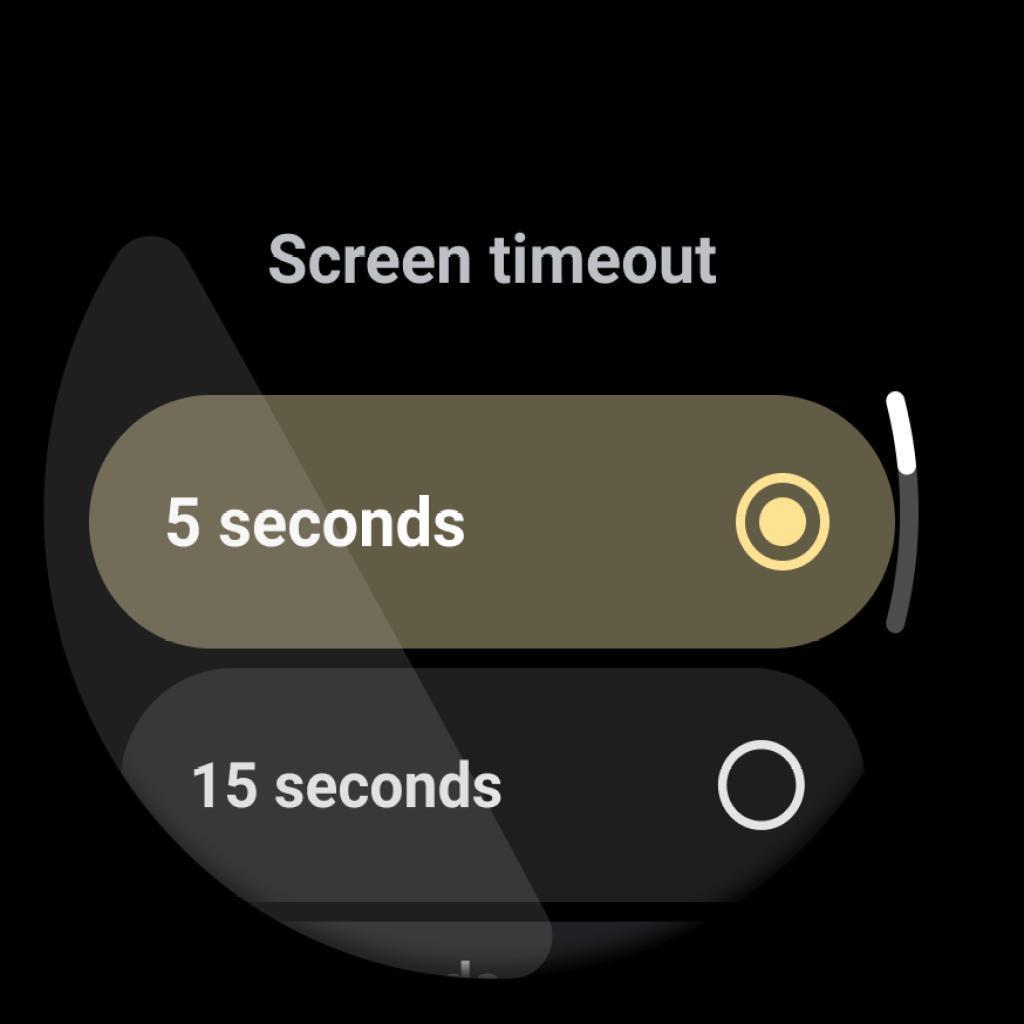label: (165, 484, 471, 566), (194, 755, 508, 820)
radio: (735, 472, 832, 571), (718, 737, 807, 838)
